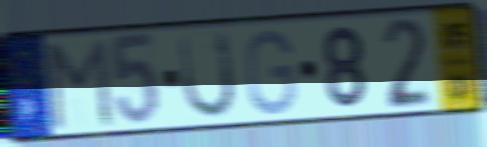2: (379, 15, 433, 112)
5: (106, 29, 162, 131)
8: (321, 23, 370, 111)
G: (243, 27, 299, 118)
M: (45, 35, 116, 133)
U: (176, 28, 238, 122)
